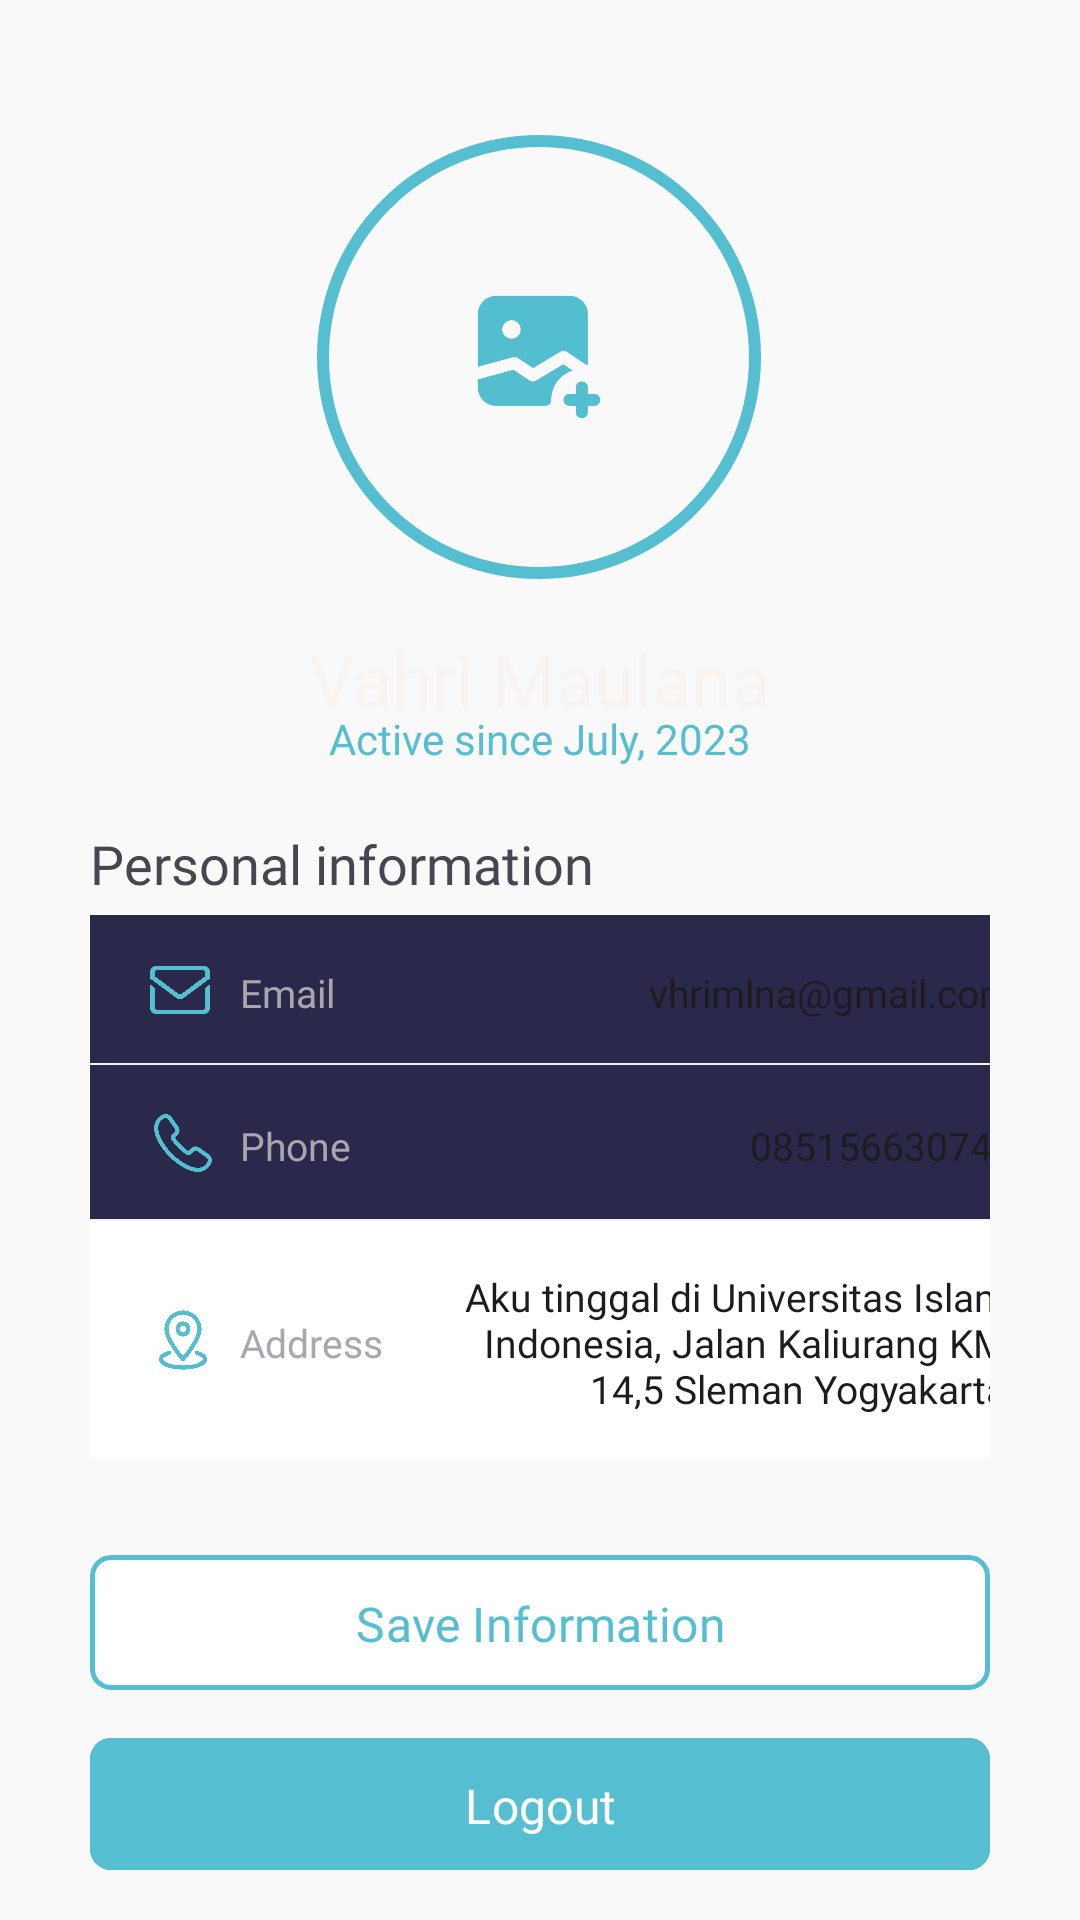

Screen size 1080px x 1920px. Icon name, then its center in pixels as (x=x, y=y):
location: (x=183, y=1340)
